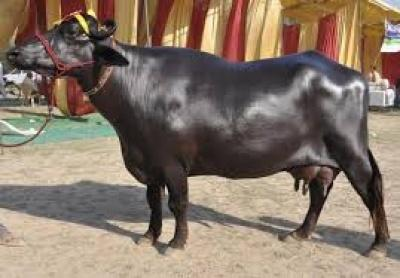buffalo: (8, 12, 388, 249)
